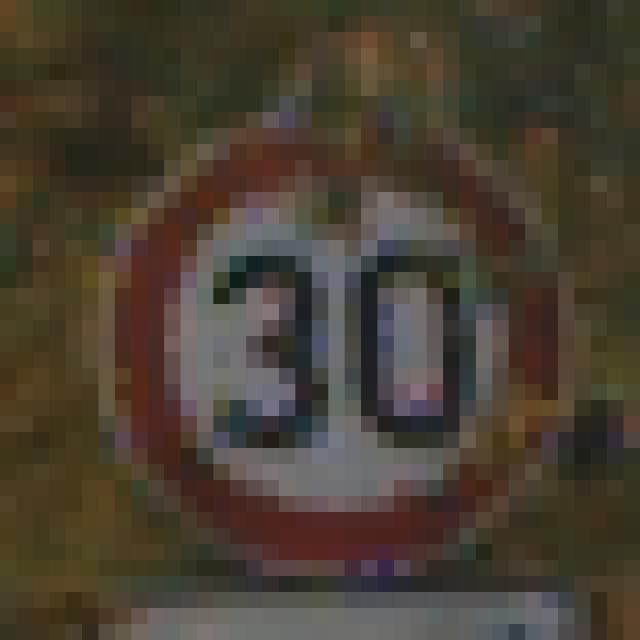Speed Limit -30-: (90, 72, 550, 536)
